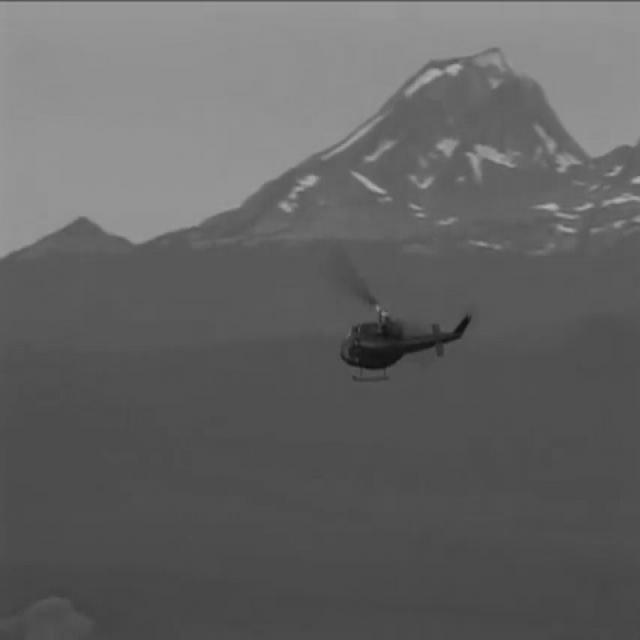helikopter: (318, 269, 488, 404)
